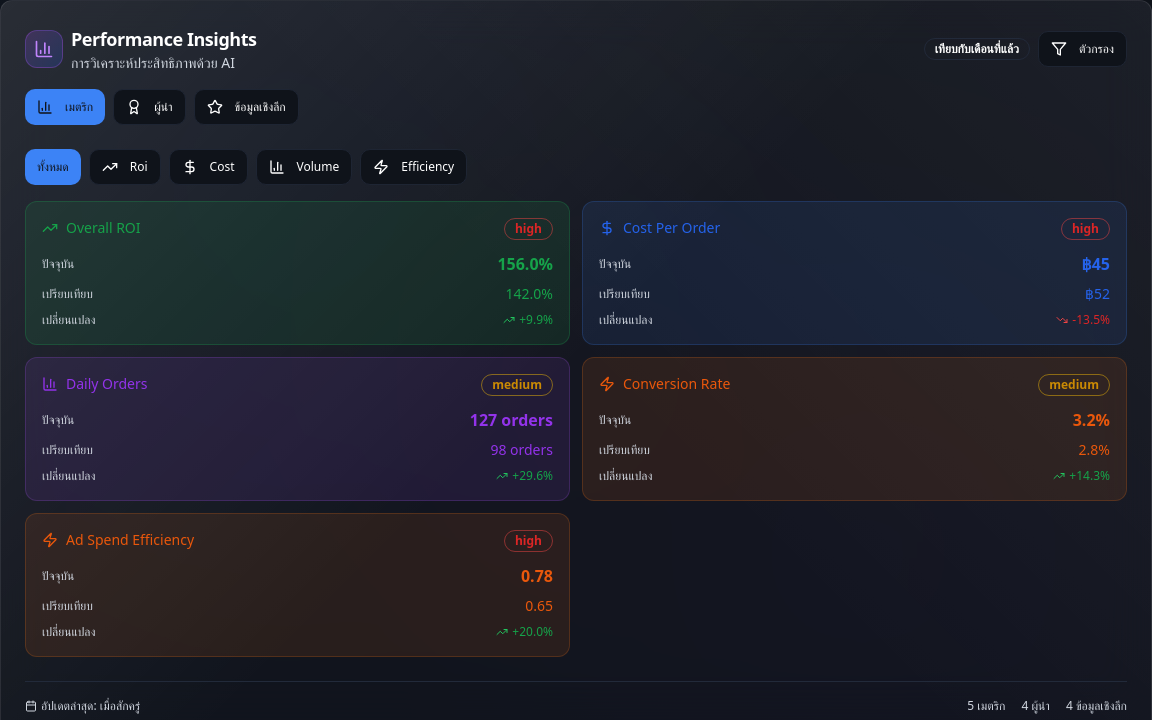
Test case: PerformanceInsights › switches to top performers tab correctly
This screenshot has width=1152, height=720.
Click the button "ผู้นำ": coordinates (149, 107) [113,89,186,125]
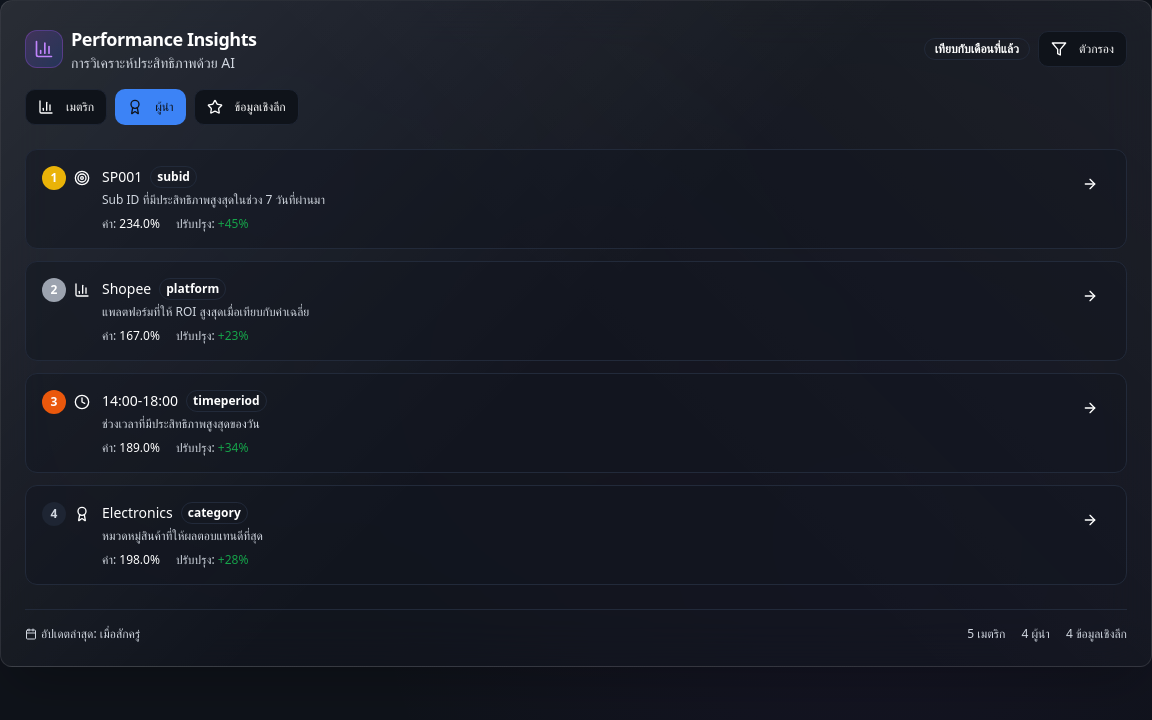
Now the heading "SP001" is shown, box [102,167,142,187]
Now the heading "Shopee" is shown, box [102,279,151,299]
Now the heading "14:00-18:00" is shown, box [102,391,178,411]
